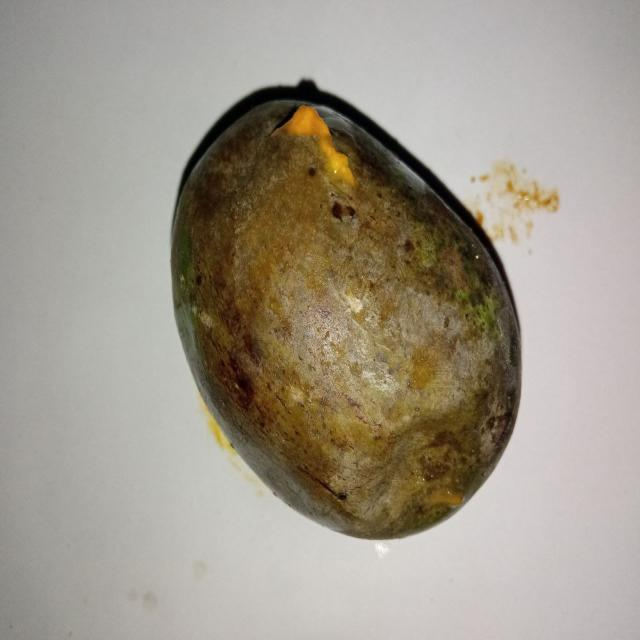rotten_mango: (168, 89, 518, 537)
